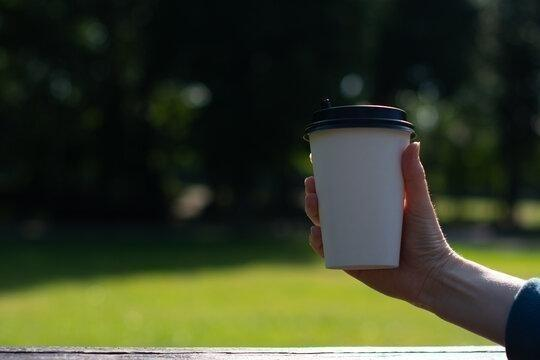cup-disposable: (303, 97, 417, 275)
